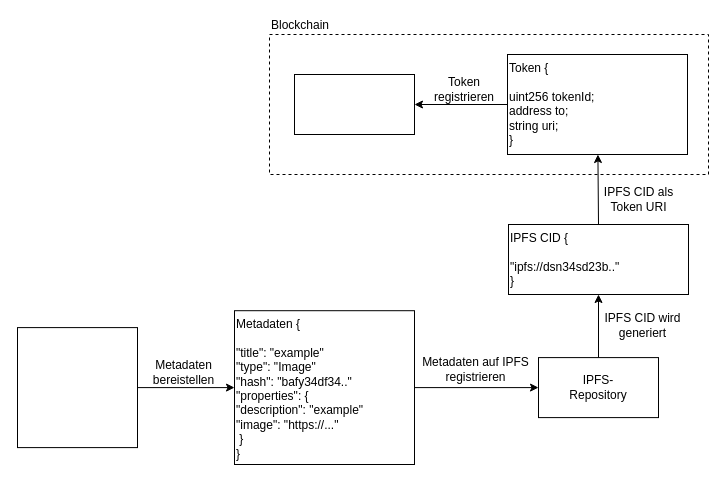
This 726x482 diagram has some shape labels left out. Here are the shapes that lost their labels. From the top down, the centre of each, then its label:
the point at 354,104: Intelligenter Vertrag
the point at 77,387: Bildgebende Dokumentenquelle
